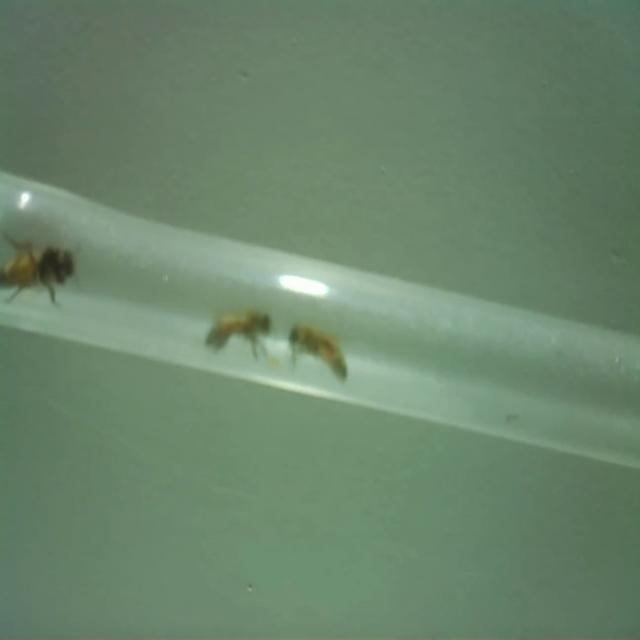Honeybee-Detection: (0, 230, 81, 307), (205, 306, 280, 367), (288, 323, 349, 381)
